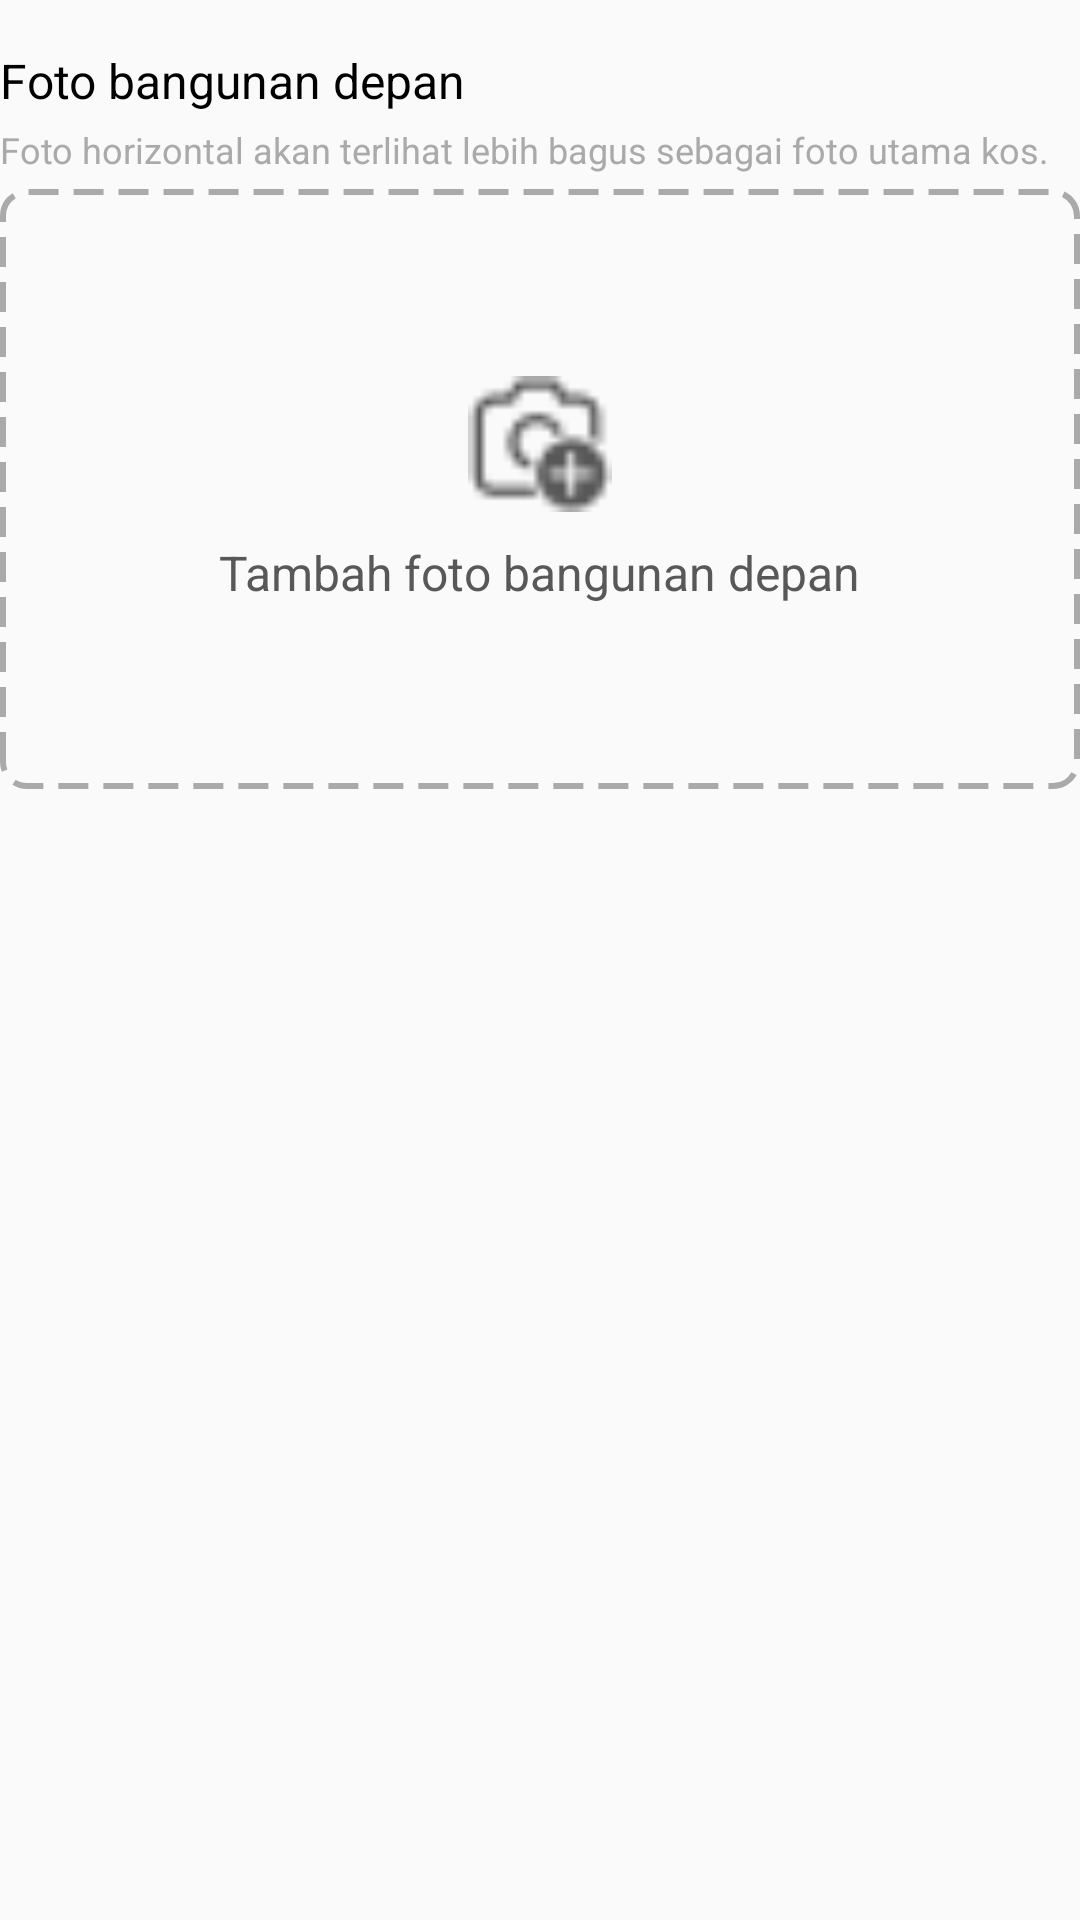

Icon click points for this 1080px×1920px phone screenshot, format (x,y):
kamera: (540,444)
